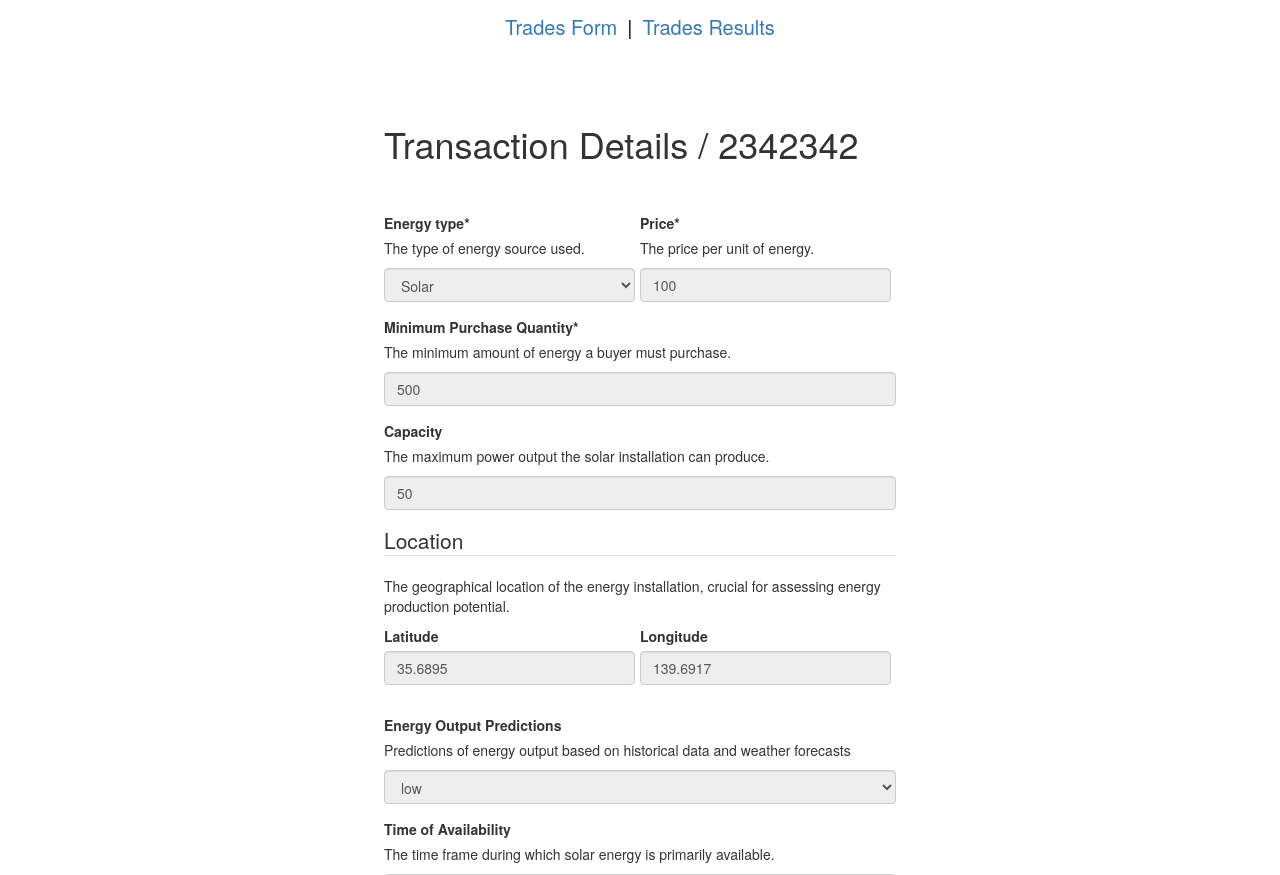
Test: <App /> › navigates to trades results route when '/trades/results' is visited
Click the link "Trades Results" at {"x": 709, "y": 27}, box top-left (642, 12), bottom-right (775, 41)
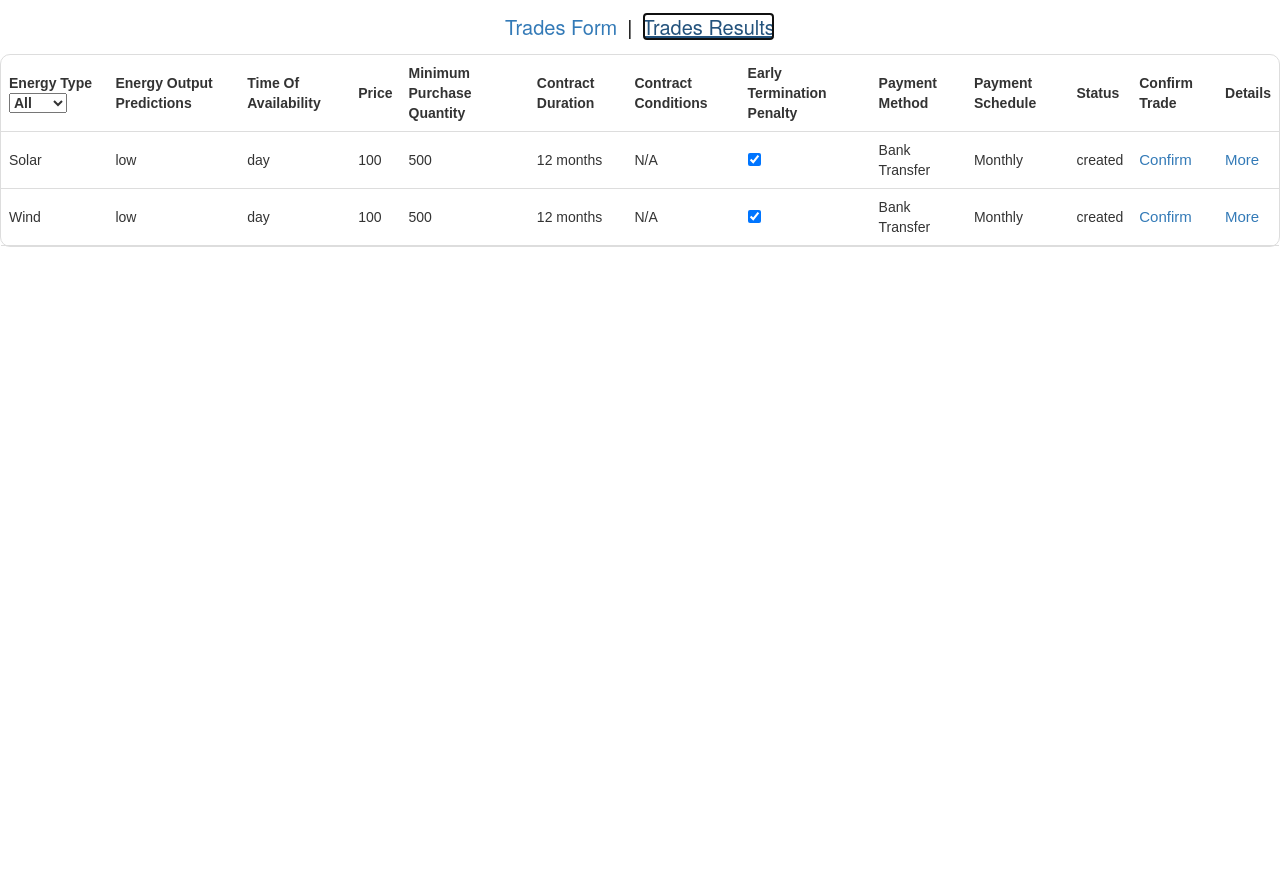
Check: the element with test id "EnergyTradesTable" is shown, box top-left (0, 54), bottom-right (1279, 247)
